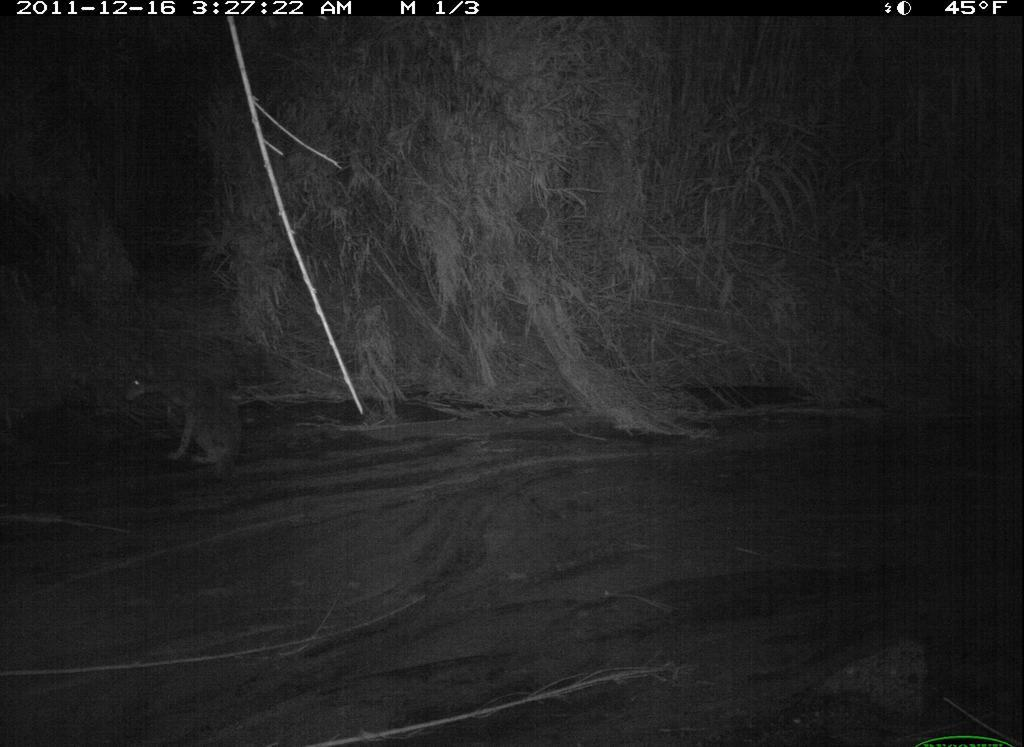coyote: (122, 349, 258, 487)
